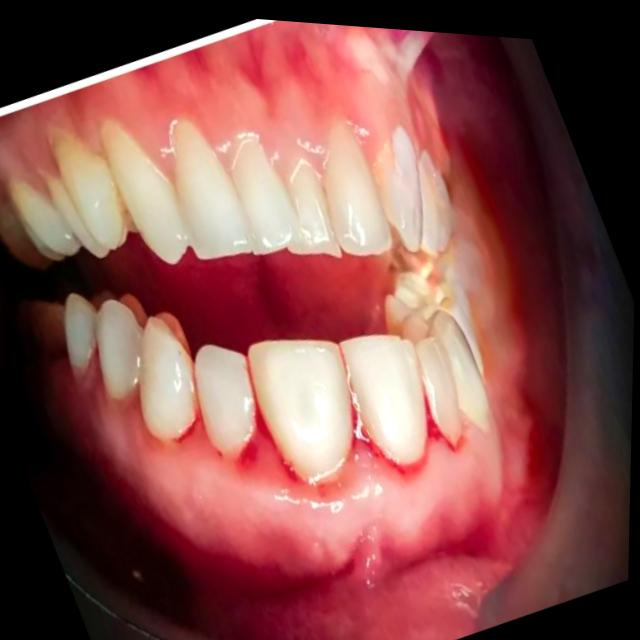gingivitis: (54, 371, 544, 640), (71, 21, 393, 179)
